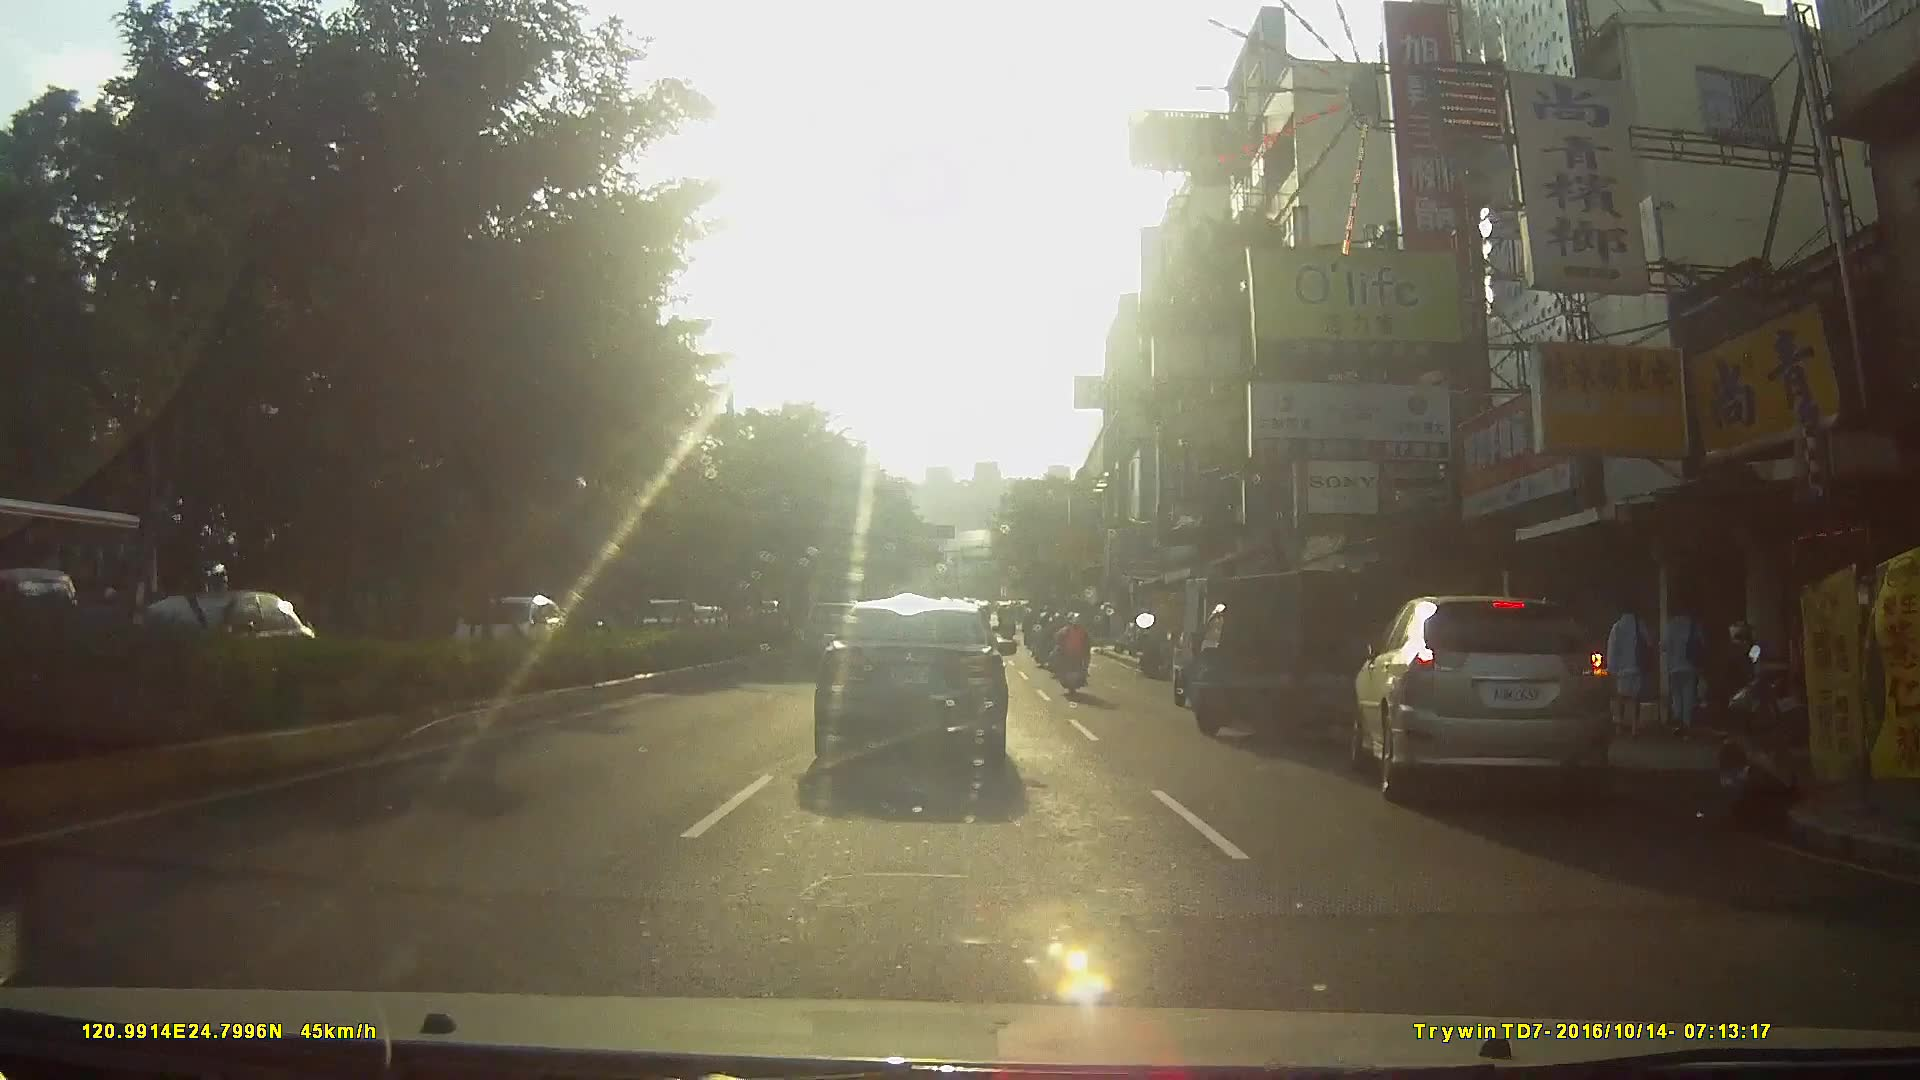pedestrian: (1604, 593, 1662, 744), (1656, 593, 1712, 742)
rider: (1047, 608, 1088, 698), (1028, 609, 1055, 665)
vehicle: (1352, 581, 1642, 828), (1167, 563, 1388, 759), (809, 591, 1027, 778), (1, 496, 168, 679)
